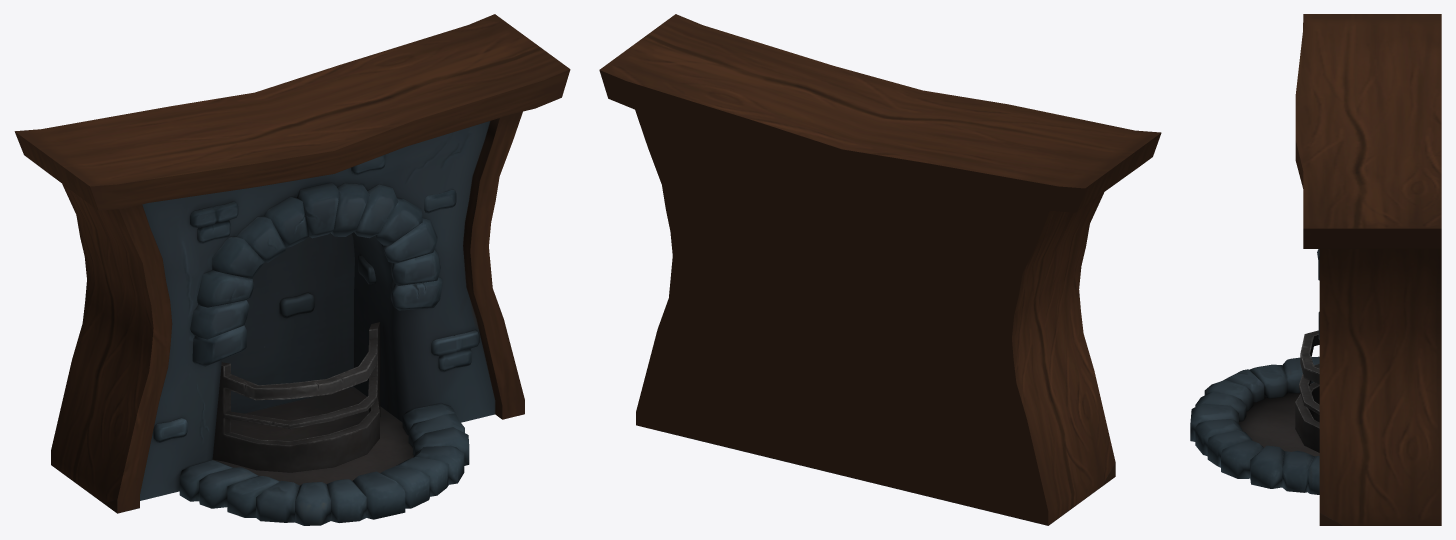
File: somine.fbx
The picture shows the model from 3 angles, left to right: view 1: azimuth 30°, elevation 25°; view 2: azimuth 150°, elevation 25°; view 3: azimuth 270°, elevation 25°; orthographic projection. The views are drawn at different scales.
Visible parts, largest first — view 1: Cube.037; view 2: Cube.037; view 3: Cube.037.
Part boxes in pixels (x1,y1,x2,y2): Cube.037: (14,14,570,525); Cube.037: (599,14,1161,525); Cube.037: (1190,14,1441,525).
Size of the model in its own units: 265 by 181 by 131.
Materials: 1 (1 with a texture image).
